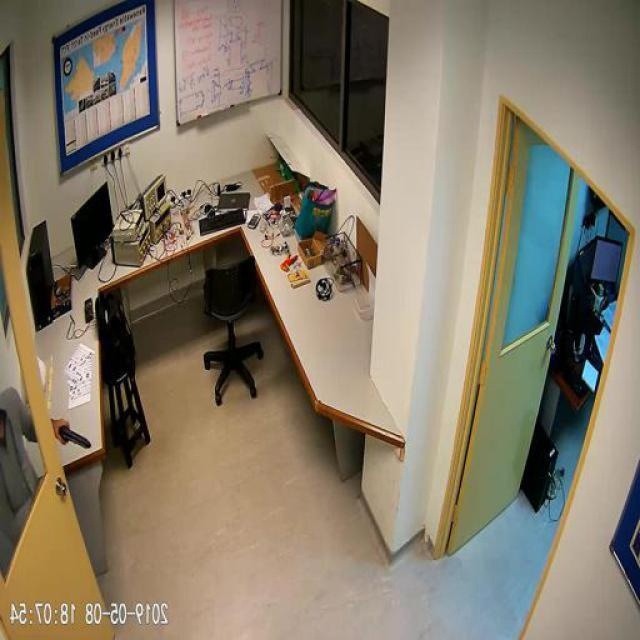weapon: (55, 423, 92, 448)
